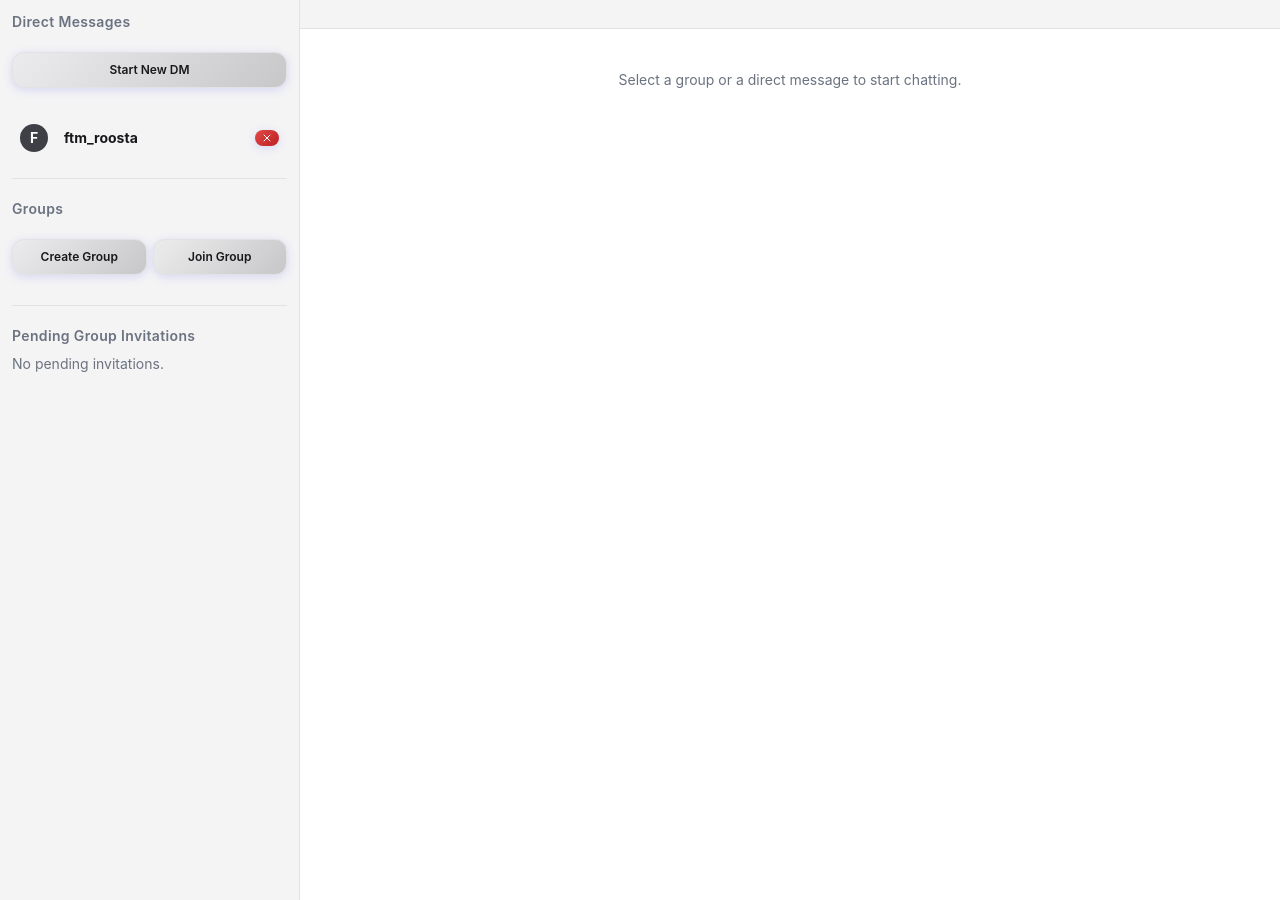
Test: Private Spaces (SCRUM-35 network wiring) › PrivateSpacesPage › clicking the DM header username (the top bar, not the sidebar) opens their profile
Click the list item "ftm_roosta": (101,138) [12,118,287,158]
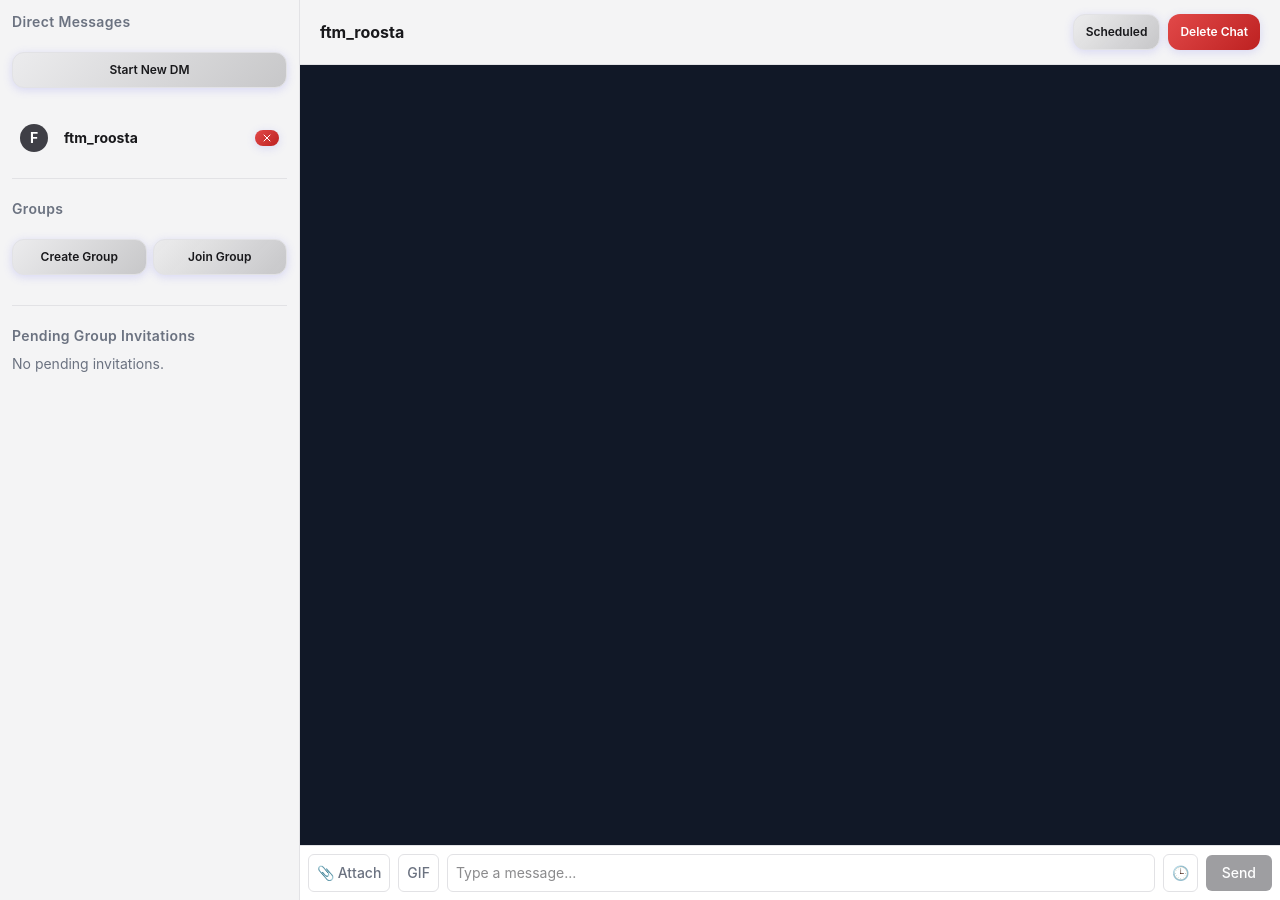
Click the button "ftm_roosta": (362,32) [320,20,404,44]
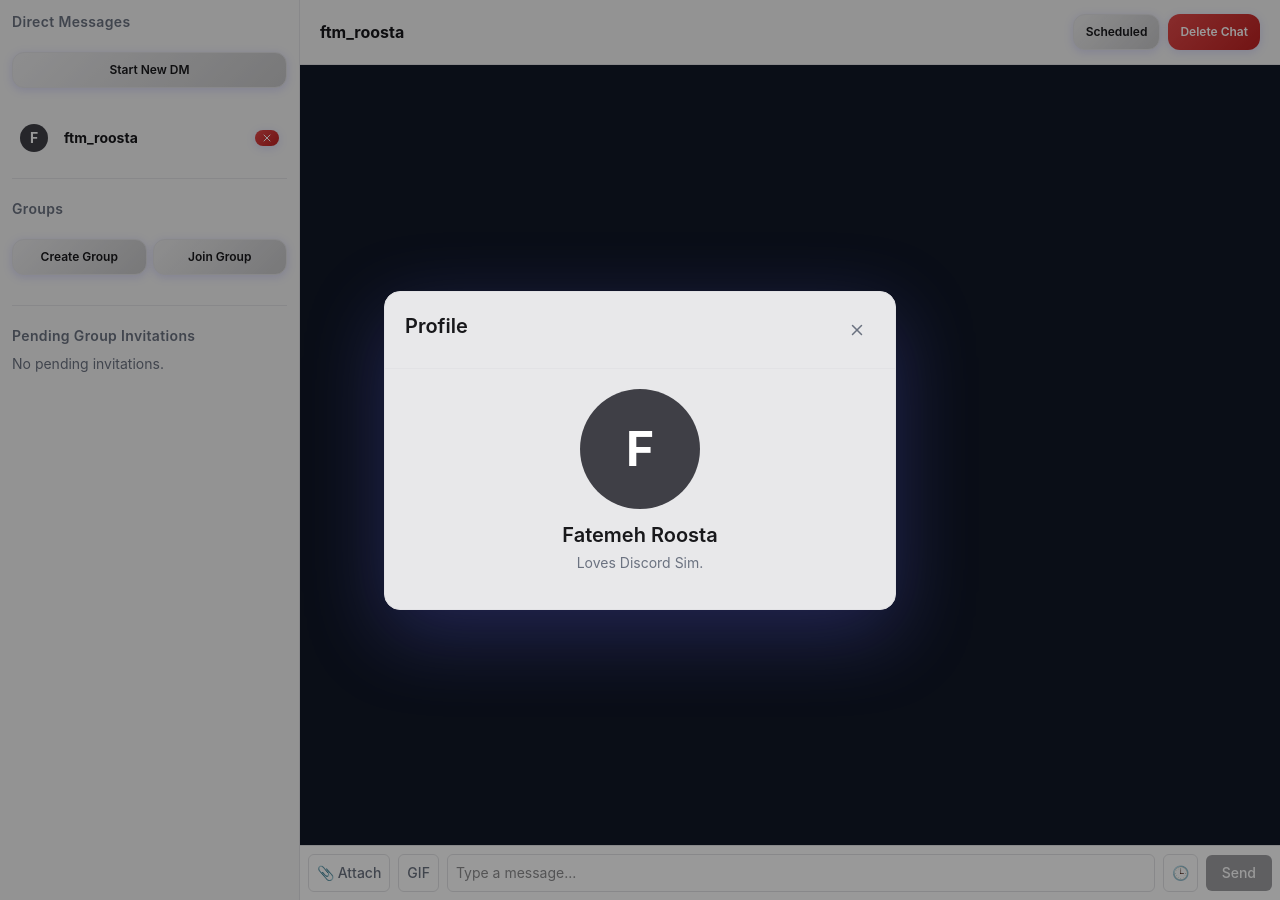
Expected: the text "Loves Discord Sim." is shown, [577,554,703,570]
